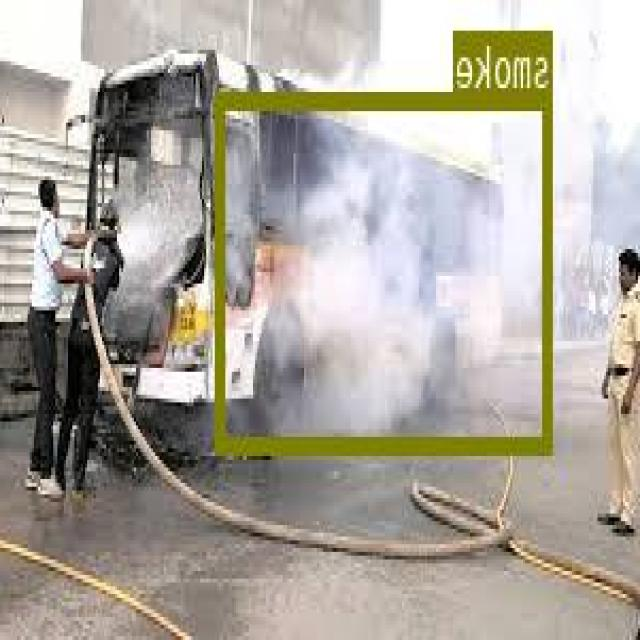smoke: (219, 89, 553, 448)
